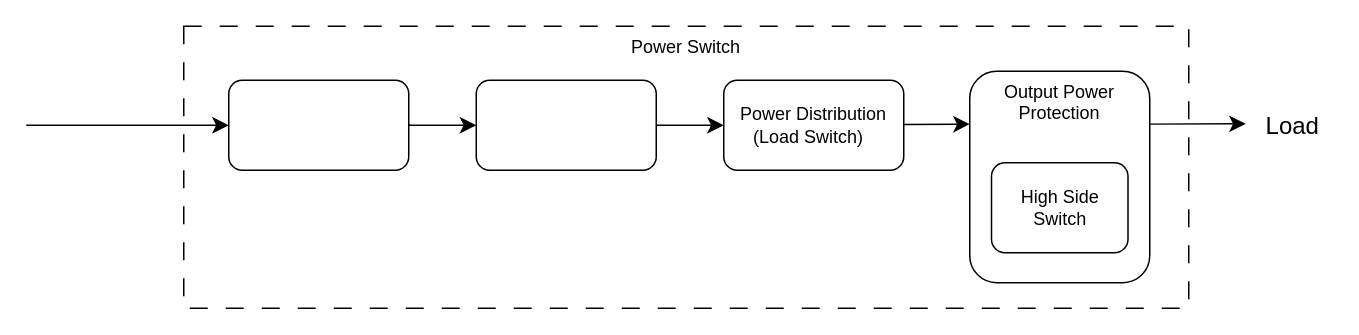
Some shapes in this 1359 by 335 pixel diagram are drawn without their labels. The shapes that lost their labels are listed below. From the top down, each one's centre as x and y in pixels, then its label:
At (318,124): "Input Protection".
At (565,124): "DC/DC".
